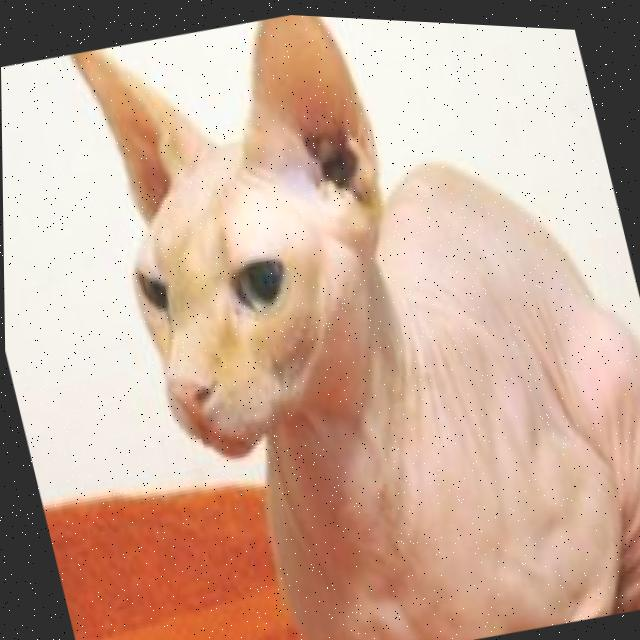Sphynx: (61, 2, 640, 640)
